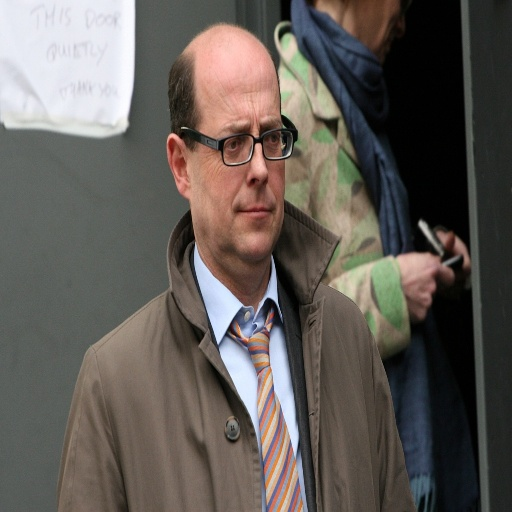hand: (394, 234, 454, 322), (435, 228, 472, 290)
